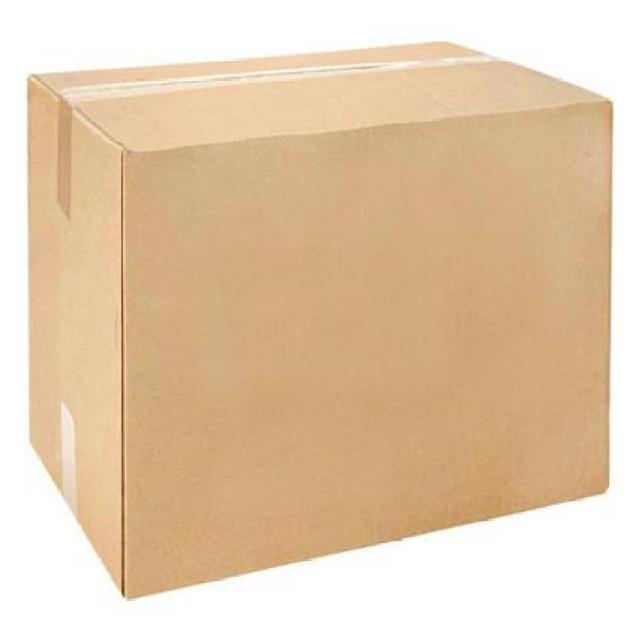normal: (11, 31, 626, 611)
